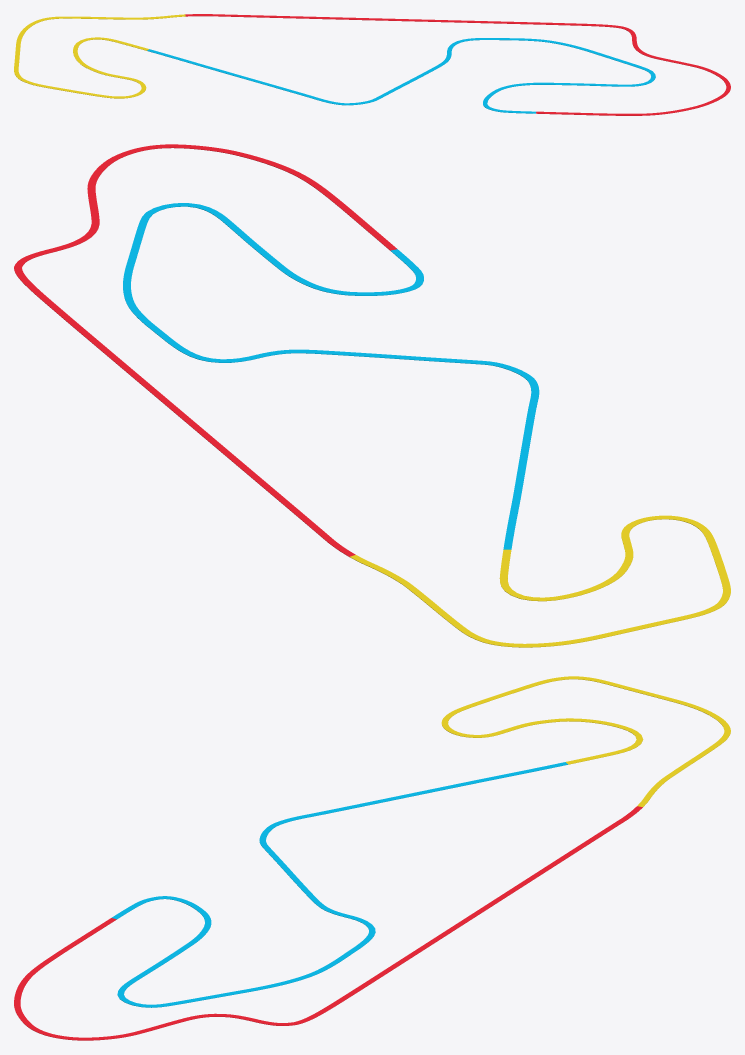
Rendered from BarcelonaSectors.glb.
The picture shows the model from 3 angles, top to bottom: view 1: azimuth 30°, elevation 25°; view 2: azimuth 150°, elevation 25°; view 3: azimuth 270°, elevation 25°; orthographic projection. The views are drawn at different scales.
Parts seen in each view (by area): view 1: SectorStrip_2, SectorStrip_1, SectorStrip_3; view 2: SectorStrip_2, SectorStrip_1, SectorStrip_3; view 3: SectorStrip_2, SectorStrip_1, SectorStrip_3.
Part boxes in pixels (x1,y1,x2,y2): SectorStrip_2: (147,38,655,113); SectorStrip_1: (185,14,730,115); SectorStrip_3: (14,14,185,98); SectorStrip_2: (123,203,539,549); SectorStrip_1: (14,144,396,556); SectorStrip_3: (350,515,730,647); SectorStrip_2: (111,762,567,1007); SectorStrip_1: (14,806,642,1040); SectorStrip_3: (441,676,730,806).
Bounding box in the file's own units: 15.84 × 0.006 × 13.18.
